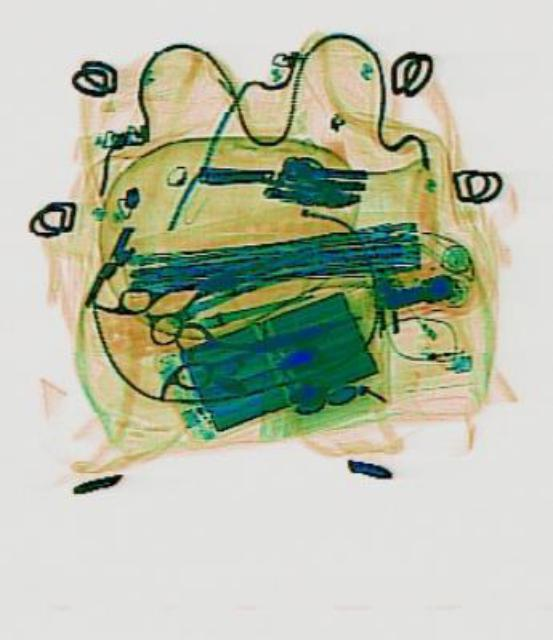Scissors: (112, 238, 254, 354), (167, 306, 296, 388)
